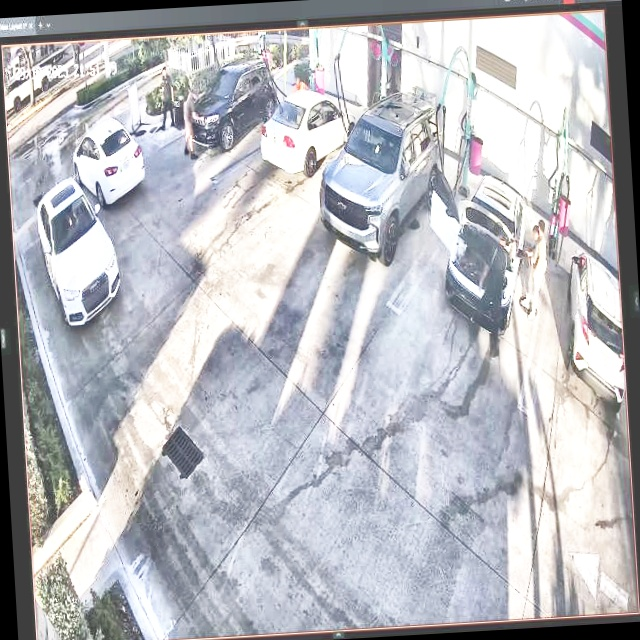Car: (317, 90, 448, 267), (437, 171, 533, 336), (183, 56, 281, 148), (260, 87, 357, 176), (72, 116, 147, 207)
